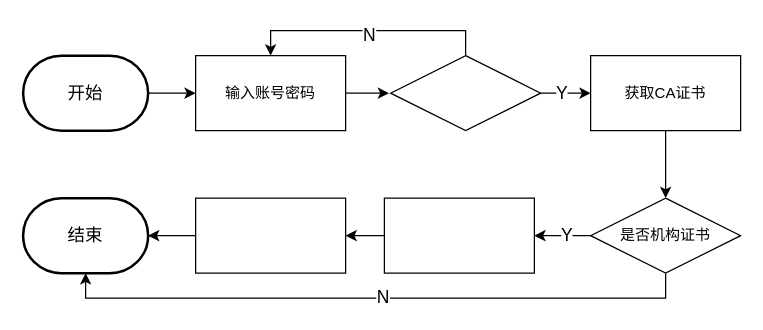
This 763x330 diagram has some shape labels left out. Each missing label, with the centre of its shape:
创建安全连接，并根据证书给予对应权限: pixel 458 235
生成用户的区块链地址并添加到认证合约: pixel 270 235
账号密码是否正确: pixel 465 92
